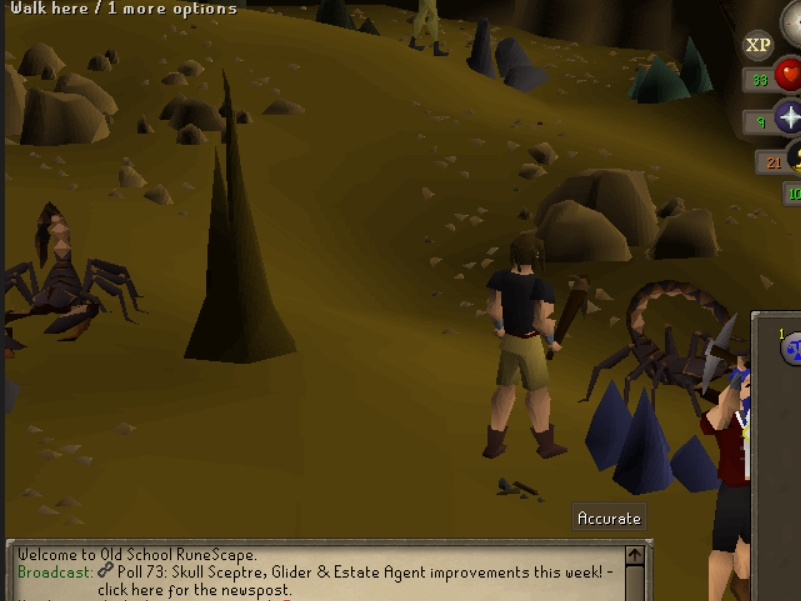adamant: (622, 25, 721, 112)
coal: (311, 1, 378, 37)
mithril: (583, 373, 728, 508)
